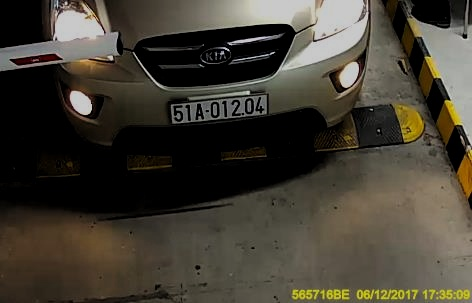plate: (166, 92, 271, 125)
